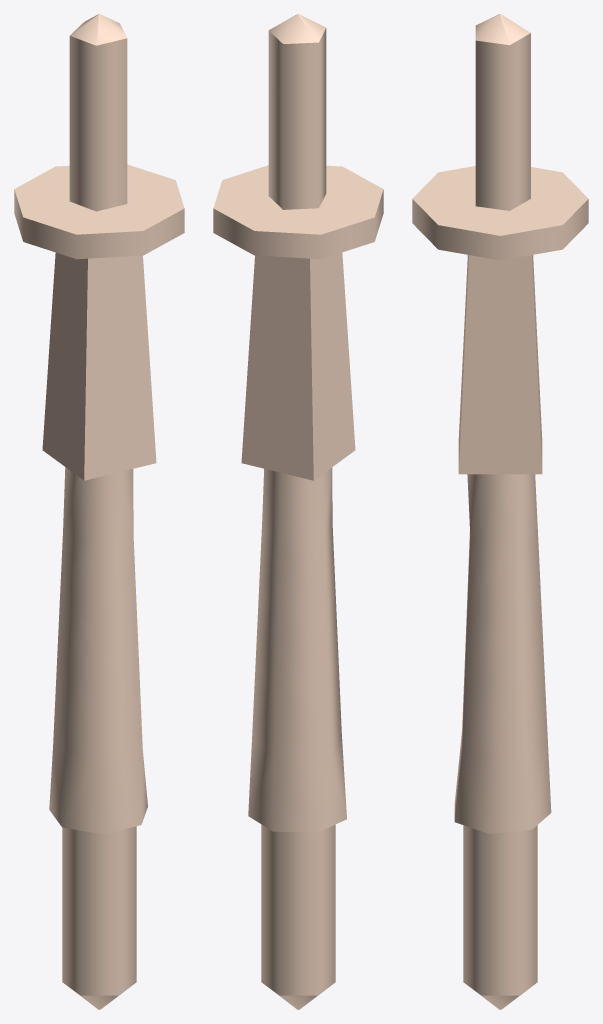
File: Pied Timbre_Quarts 1T.obj
The picture shows the model from 3 angles, left to right: view 1: azimuth 30°, elevation 25°; view 2: azimuth 150°, elevation 25°; view 3: azimuth 270°, elevation 25°; orthographic projection.
Visible parts, largest first — view 1: Face_16, Face_9, Face_14, Face_4, Face_10, Face_5, Face_6, Face_3; view 2: Face_16, Face_11, Face_14, Face_4, Face_10, Face_5, Face_6, Face_3; view 3: Face_16, Face_8, Face_14, Face_4, Face_5, Face_6, Face_3, Face_9, Face_11.
Boxes of the visible parts, x1=… form: Face_16: x1=49, y1=467, x2=147, y2=834; Face_9: x1=84, y1=255, x2=156, y2=480; Face_14: x1=62, y1=826, x2=136, y2=995; Face_4: x1=69, y1=36, x2=127, y2=211; Face_10: x1=42, y1=252, x2=87, y2=480; Face_5: x1=14, y1=164, x2=184, y2=234; Face_6: x1=14, y1=189, x2=184, y2=259; Face_3: x1=70, y1=14, x2=126, y2=45; Face_16: x1=248, y1=467, x2=346, y2=832; Face_11: x1=241, y1=255, x2=313, y2=480; Face_14: x1=261, y1=824, x2=335, y2=995; Face_4: x1=268, y1=28, x2=326, y2=209; Face_10: x1=310, y1=252, x2=355, y2=480; Face_5: x1=213, y1=165, x2=383, y2=234; Face_6: x1=213, y1=189, x2=383, y2=259; Face_3: x1=269, y1=14, x2=325, y2=43; Face_16: x1=454, y1=474, x2=551, y2=833; Face_8: x1=458, y1=255, x2=542, y2=474; Face_14: x1=463, y1=825, x2=537, y2=995; Face_4: x1=475, y1=33, x2=530, y2=210; Face_5: x1=412, y1=166, x2=588, y2=235; Face_6: x1=412, y1=199, x2=588, y2=260; Face_3: x1=475, y1=14, x2=530, y2=45; Face_9: x1=458, y1=255, x2=468, y2=472; Face_11: x1=532, y1=255, x2=542, y2=472.
Bounding box in the file's own units: 0.013 × 0.081 × 0.013.
